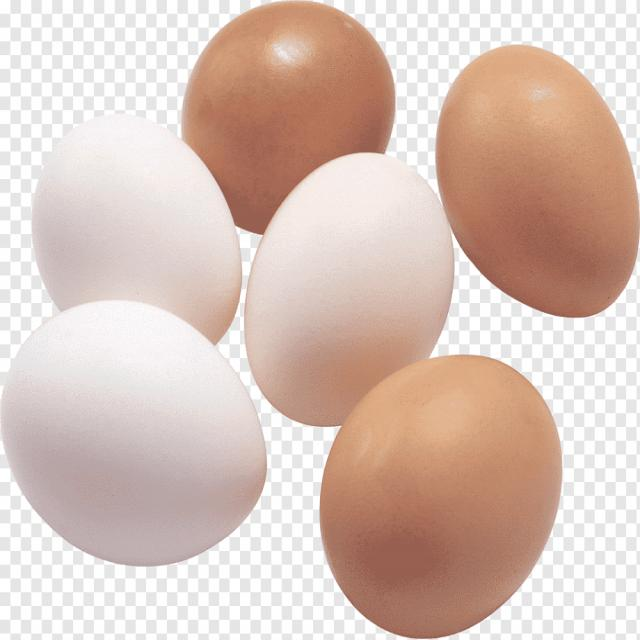egg: (1, 301, 266, 567), (320, 356, 563, 639), (245, 152, 455, 427), (438, 44, 640, 317), (182, 1, 395, 233), (31, 114, 241, 344)
